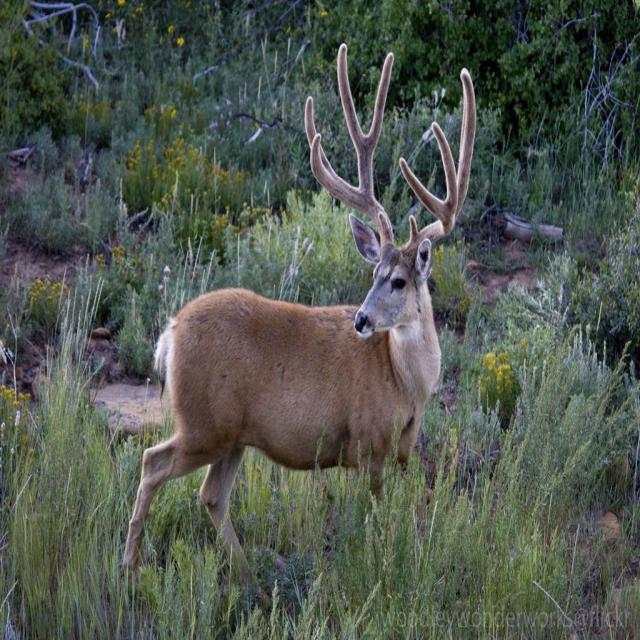Deer: (122, 44, 476, 612)
